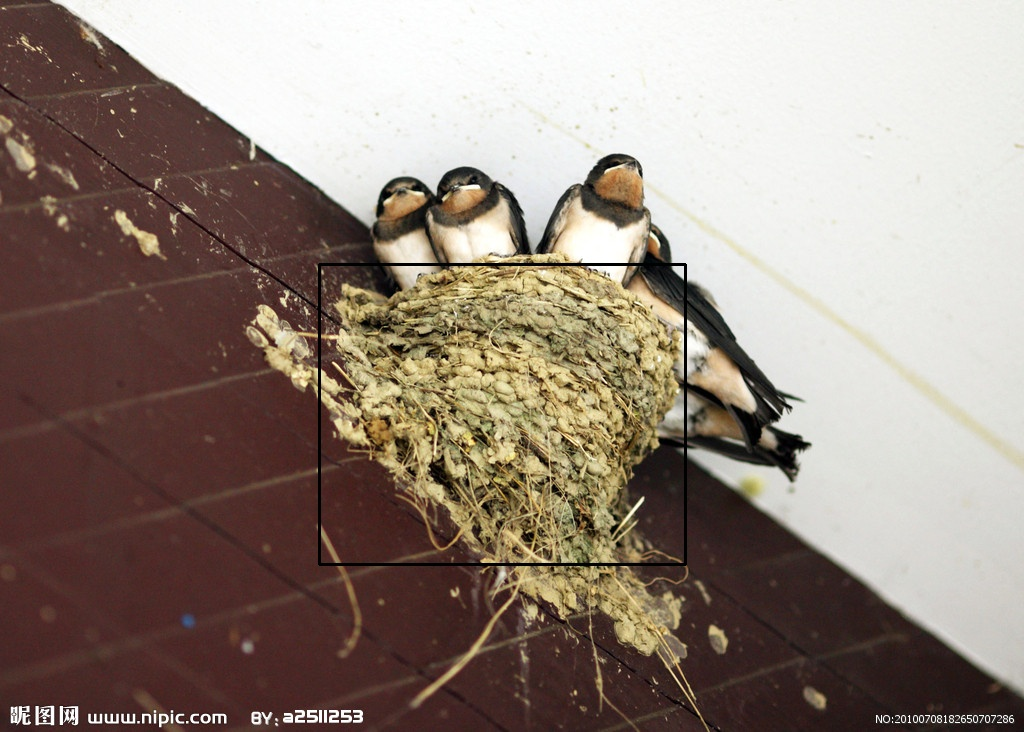bird-nest: (312, 250, 692, 675)
